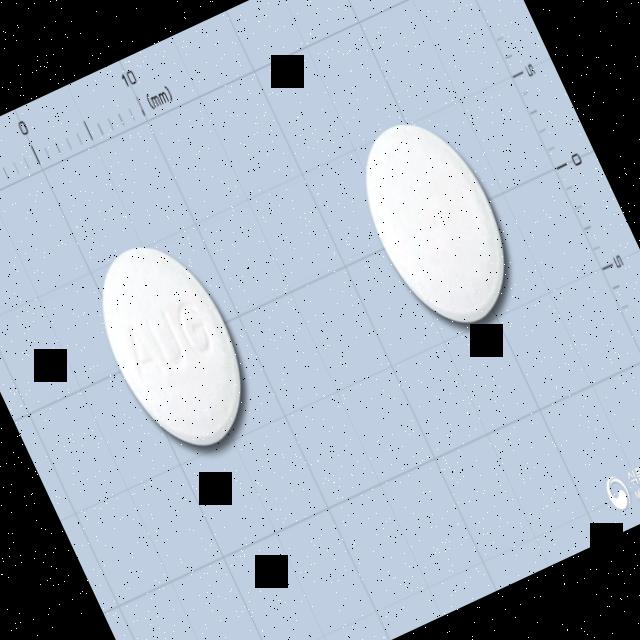Ilsung Augmentin - 625mg: (76, 224, 270, 466)
